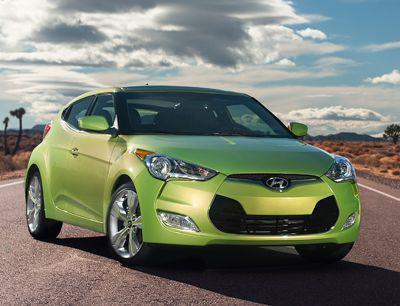Car: (19, 65, 381, 298)
